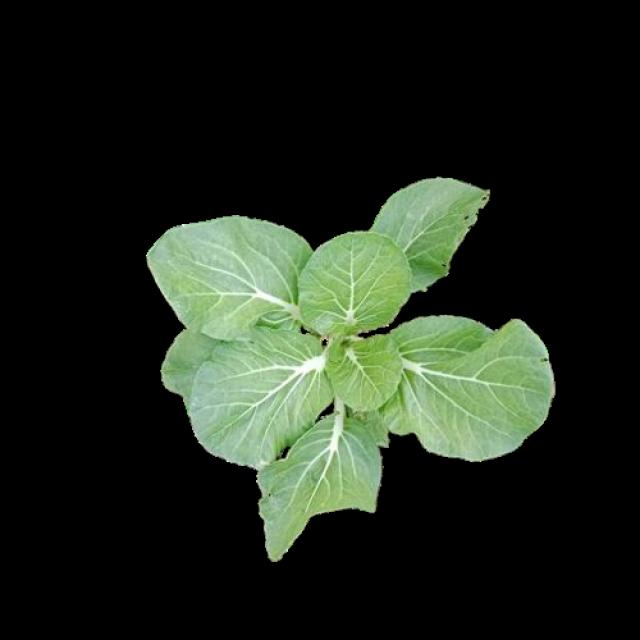not-mature: (152, 181, 558, 558)
unhealthy: (147, 218, 310, 342), (256, 414, 383, 560), (371, 179, 489, 288)
